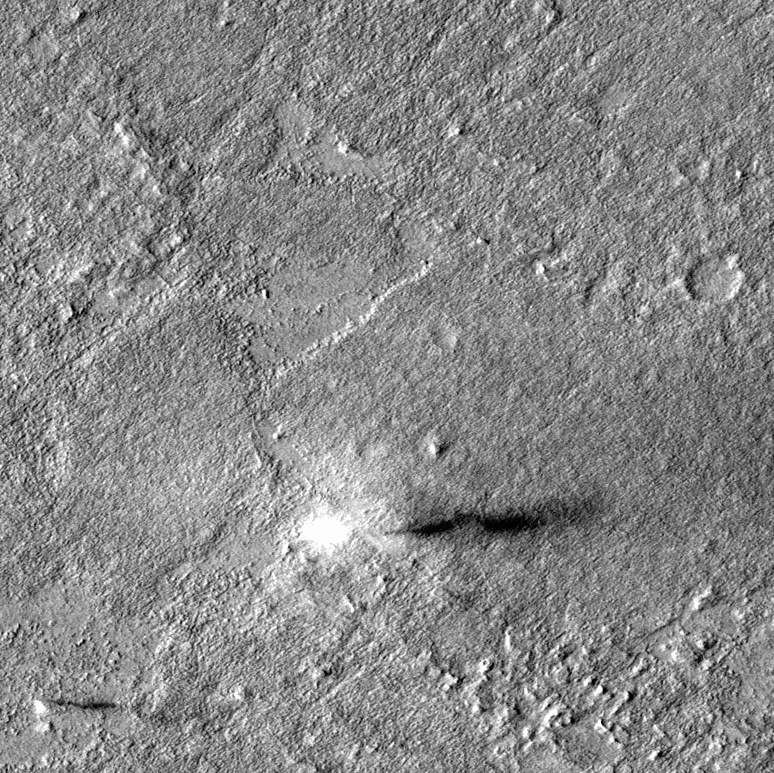dust_devil: (289, 485, 603, 558), (28, 695, 119, 718)
